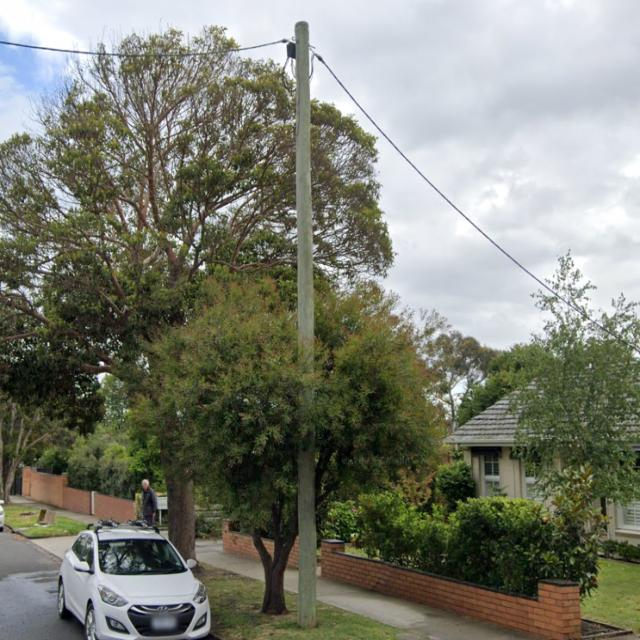timber-pole: (293, 19, 318, 630)
